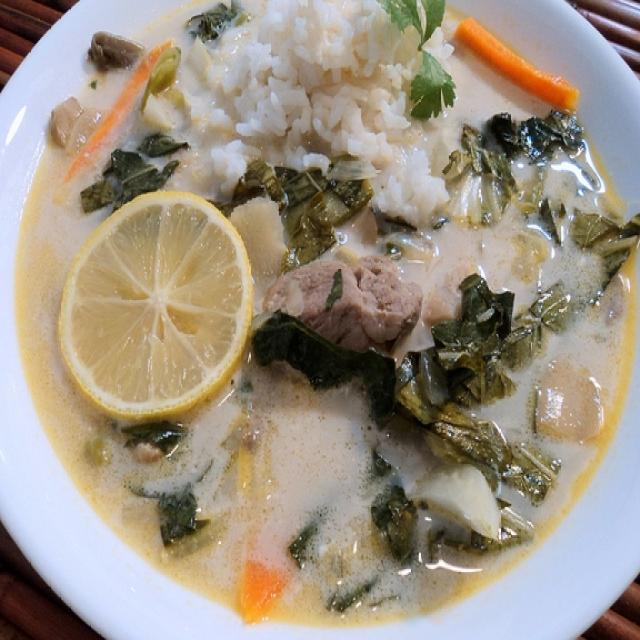汤锅炖物: (41, 14, 603, 588)
